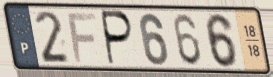2: (33, 9, 72, 65)
6: (204, 12, 241, 70), (172, 11, 204, 69), (137, 11, 169, 67)
F: (65, 11, 99, 65)
P: (100, 9, 136, 68)
